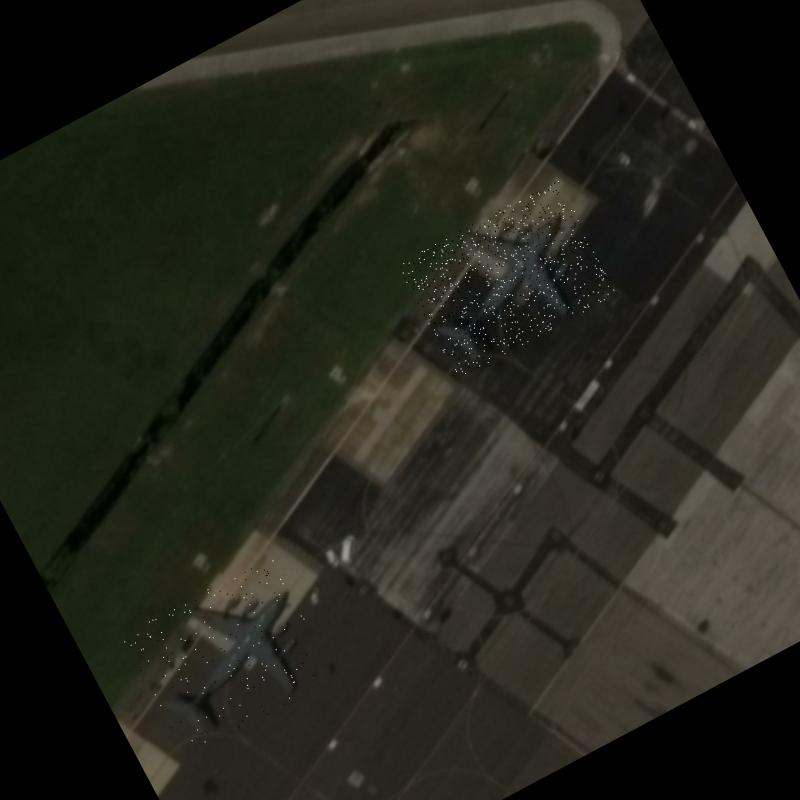A3: (120, 553, 339, 757), (396, 178, 618, 378)
